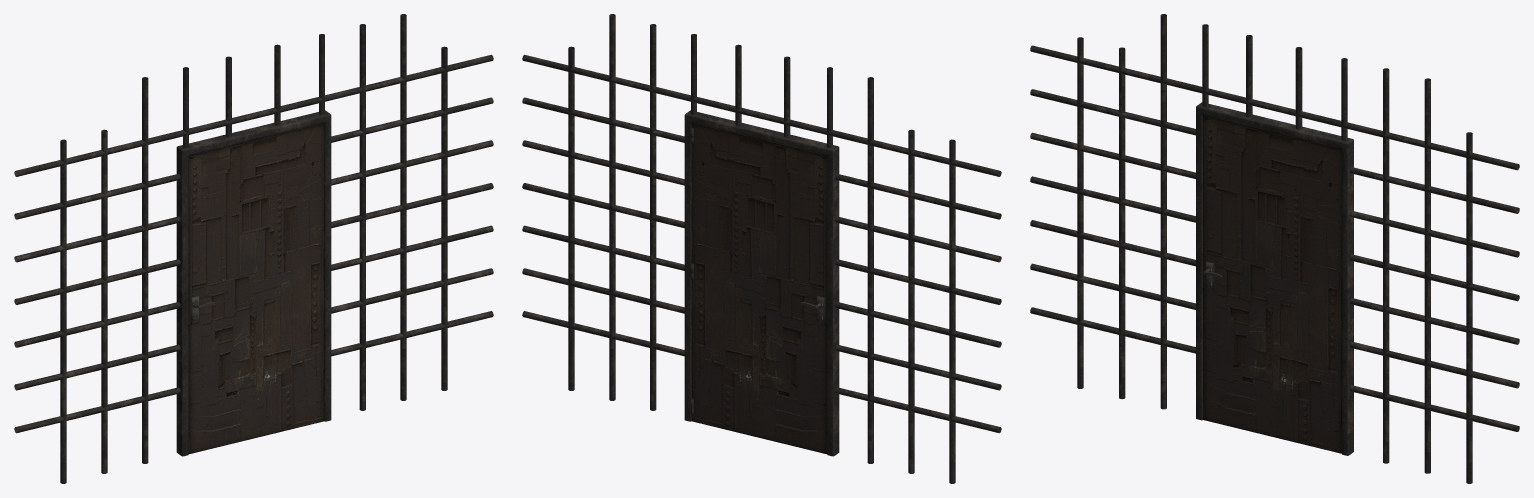
File: bars_metal_4.fbx
3 renders of one model, left to right at view 1: azimuth 30°, elevation 25°; view 2: azimuth 150°, elevation 25°; view 3: azimuth 330°, elevation 25°, orthographic. The views are drawn at different scales.
Parts seen in each view (by area): view 1: door_6, bars_metal_4; view 2: door_6, bars_metal_4; view 3: door_6, bars_metal_4.
Part boxes in pixels (<box>): door_6: <box>188,123,324,454</box>; bars_metal_4: <box>14,14,493,483</box>; door_6: <box>690,123,827,454</box>; bars_metal_4: <box>522,14,1001,483</box>; door_6: <box>1203,115,1341,453</box>; bars_metal_4: <box>1030,14,1519,483</box>.
Bounding box in the file's own units: 3.5 × 0.194 × 2.7.
